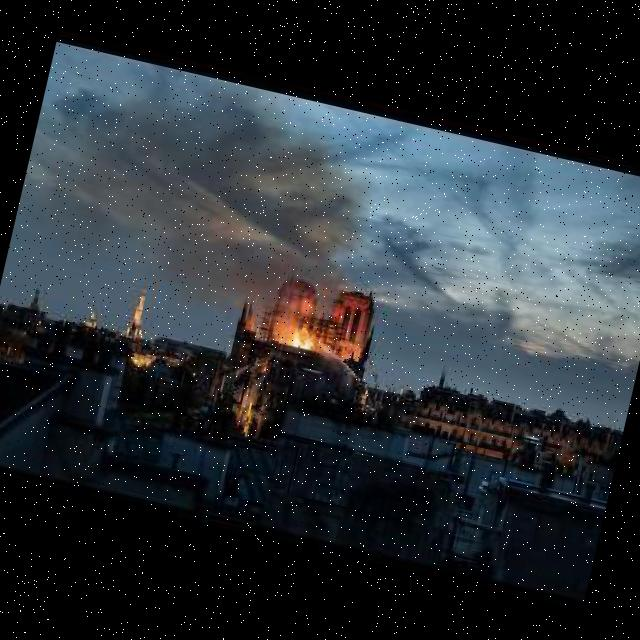fire: (274, 290, 329, 370)
